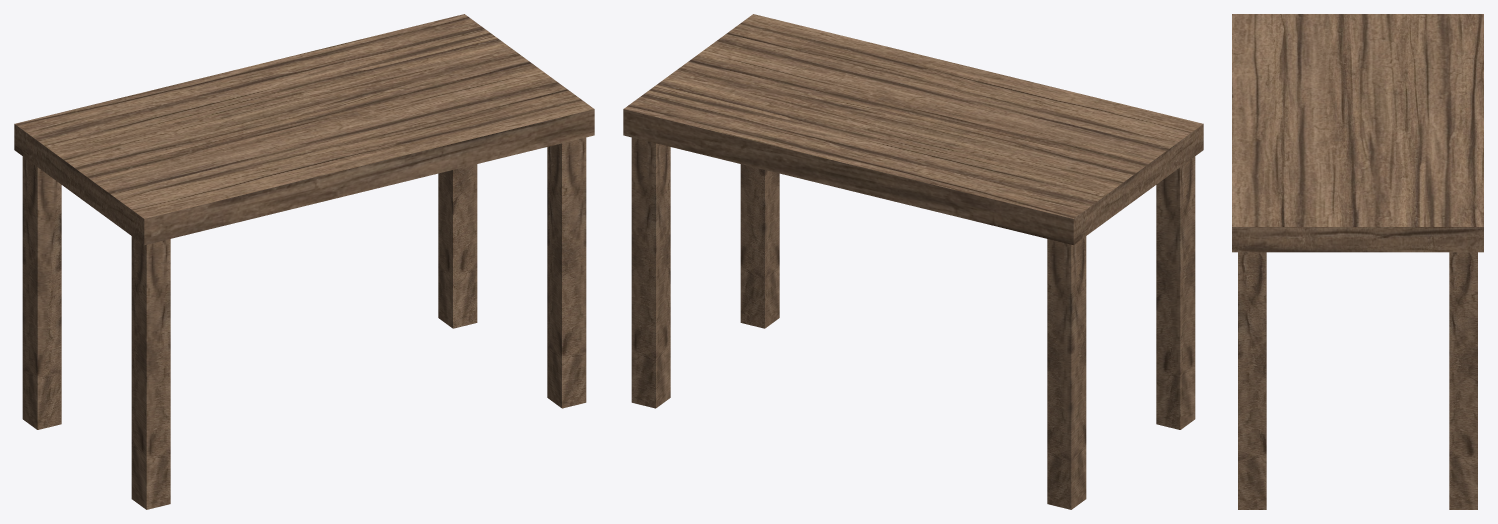
File: Table.fbx
The picture shows the model from 3 angles, left to right: view 1: azimuth 30°, elevation 25°; view 2: azimuth 150°, elevation 25°; view 3: azimuth 270°, elevation 25°; orthographic projection. The views are drawn at different scales.
Parts seen in each view (by area): view 1: TableTop, TableLeg.001, TableLeg, TableLeg.003, TableLeg.002; view 2: TableTop, TableLeg.003, TableLeg.002, TableLeg.001, TableLeg; view 3: TableTop, TableLeg, TableLeg.002.
Boxes of the visible parts, box(x1,y1,x2,y2) form: TableTop: box(14, 14, 594, 245); TableLeg.001: box(131, 236, 170, 509); TableLeg: box(547, 137, 586, 408); TableLeg.003: box(22, 156, 61, 429); TableLeg.002: box(438, 164, 477, 328); TableTop: box(623, 14, 1203, 245); TableLeg.003: box(1047, 236, 1086, 509); TableLeg.002: box(631, 137, 670, 408); TableLeg.001: box(1156, 156, 1195, 429); TableLeg: box(740, 164, 779, 328); TableTop: box(1232, 14, 1483, 252); TableLeg: box(1238, 252, 1266, 509); TableLeg.002: box(1449, 252, 1477, 509).
Size of the model in its own units: 1.2 by 0.75 by 0.6.
Materials: 1 (1 with a texture image).
